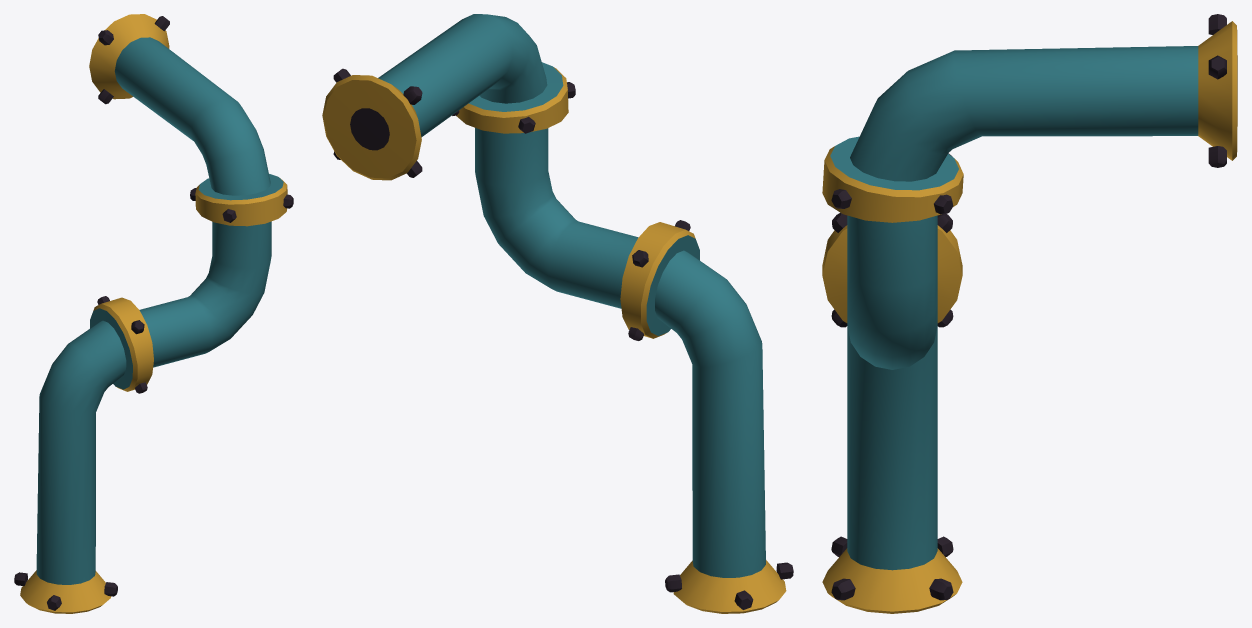
The model's file is PipeRun_20.glb.
The picture shows the model from 3 angles, left to right: view 1: azimuth 30°, elevation 25°; view 2: azimuth 150°, elevation 25°; view 3: azimuth 270°, elevation 25°; orthographic projection. The views are drawn at different scales.
Parts seen in each view (by area): view 1: PipeRun_20; view 2: PipeRun_20; view 3: PipeRun_20.
Boxes of the visible parts, x1,y1,x2,y2 form: PipeRun_20: [14, 14, 293, 613]; PipeRun_20: [322, 14, 793, 613]; PipeRun_20: [822, 14, 1237, 613].
Size of the model in its own units: 3.4 by 5.79 by 3.16.
